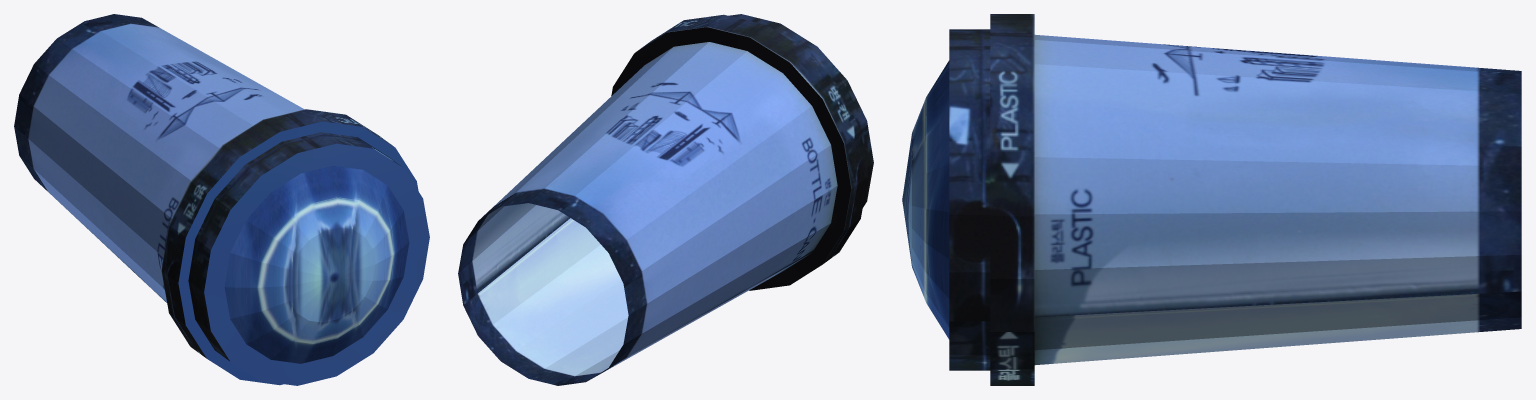
File: RTE3001220729_0198L_01_normalization.obj
3 renders of one model, left to right at view 1: azimuth 30°, elevation 25°; view 2: azimuth 150°, elevation 25°; view 3: azimuth 270°, elevation 25°, orthographic. The views are drawn at different scales.
Visible parts, largest first — view 1: 39_5; view 2: 39_5; view 3: 39_5.
Part boxes in pixels (x1=…): 39_5: x1=14, y1=14, x2=429, y2=385; 39_5: x1=458, y1=14, x2=873, y2=385; 39_5: x1=902, y1=14, x2=1521, y2=385.
Size of the model in its own units: 0.4602 by 0.4531 by 0.7635.
1 material, 1 textured.
